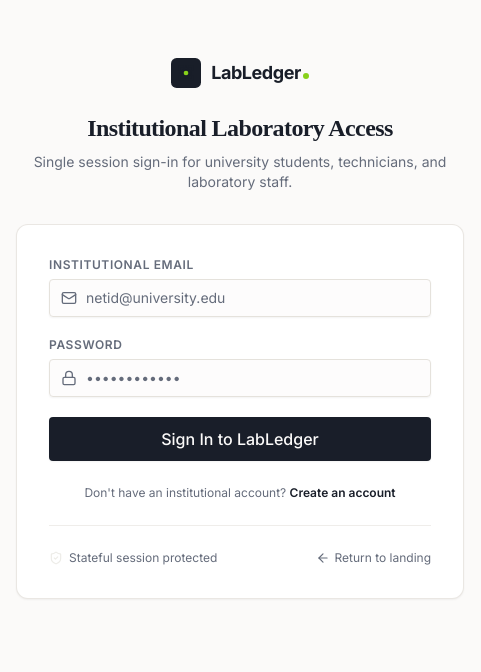
Test: LoginPage › shows validation warning when submitting with empty email
Step 1. Click the button "Sign In to LabLedger" → (240, 438), box [49,416,431,460]
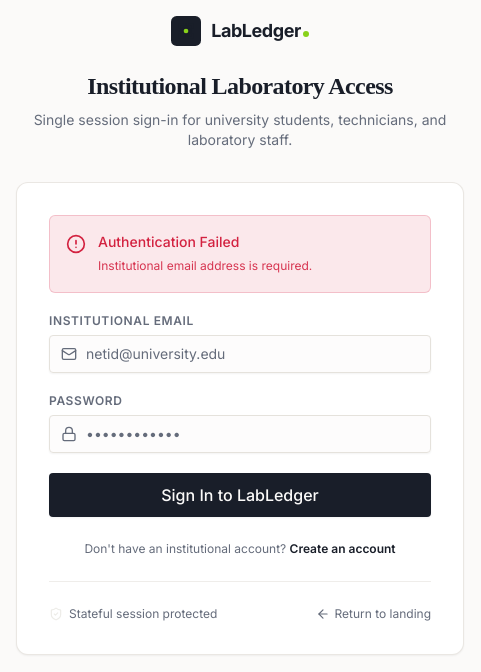
Result: the text "Institutional email address is required." is shown at [98,256,312,276]
